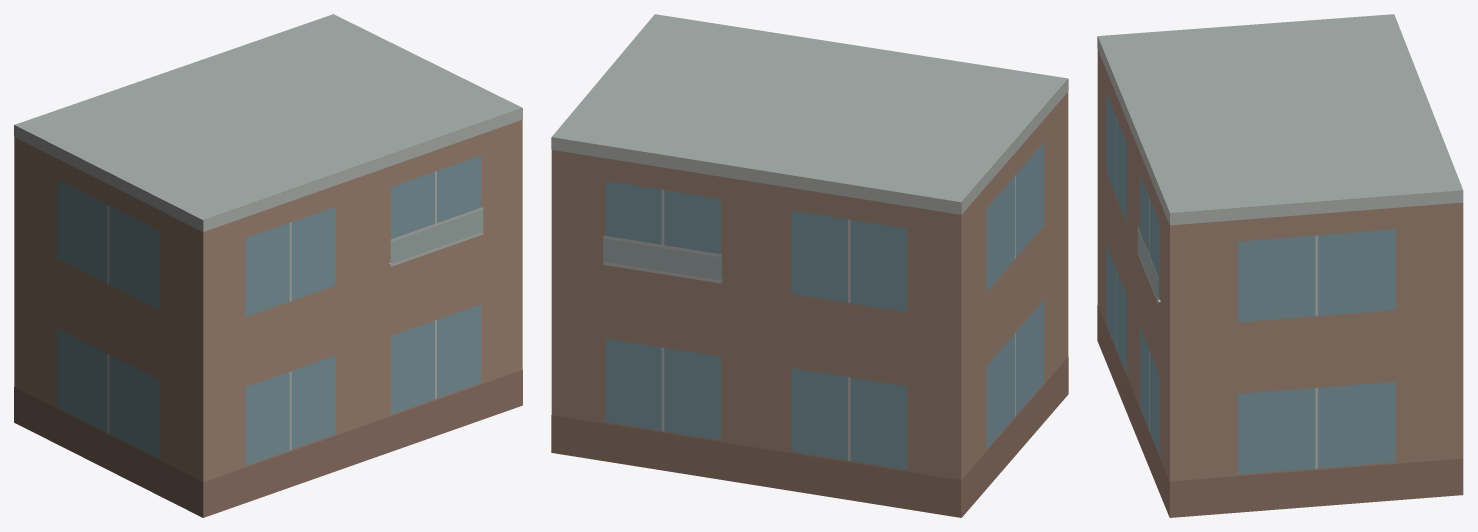
File: survey-upis-32608901.glb
3 views of the same model, side by side, from view 1: azimuth 30°, elevation 25°; view 2: azimuth 150°, elevation 25°; view 3: azimuth 270°, elevation 25° (orthographic). The views are drawn at different scales.
Visible parts, largest first — view 1: survey-upis-32608901.tmp; view 2: survey-upis-32608901.tmp; view 3: survey-upis-32608901.tmp.
Boxes of the visible parts, bbox=[...] form: survey-upis-32608901.tmp: bbox=[14, 14, 522, 517]; survey-upis-32608901.tmp: bbox=[551, 14, 1068, 517]; survey-upis-32608901.tmp: bbox=[1097, 14, 1463, 517].
Bounding box in the file's own units: 8.57 × 6.1 × 6.65.
